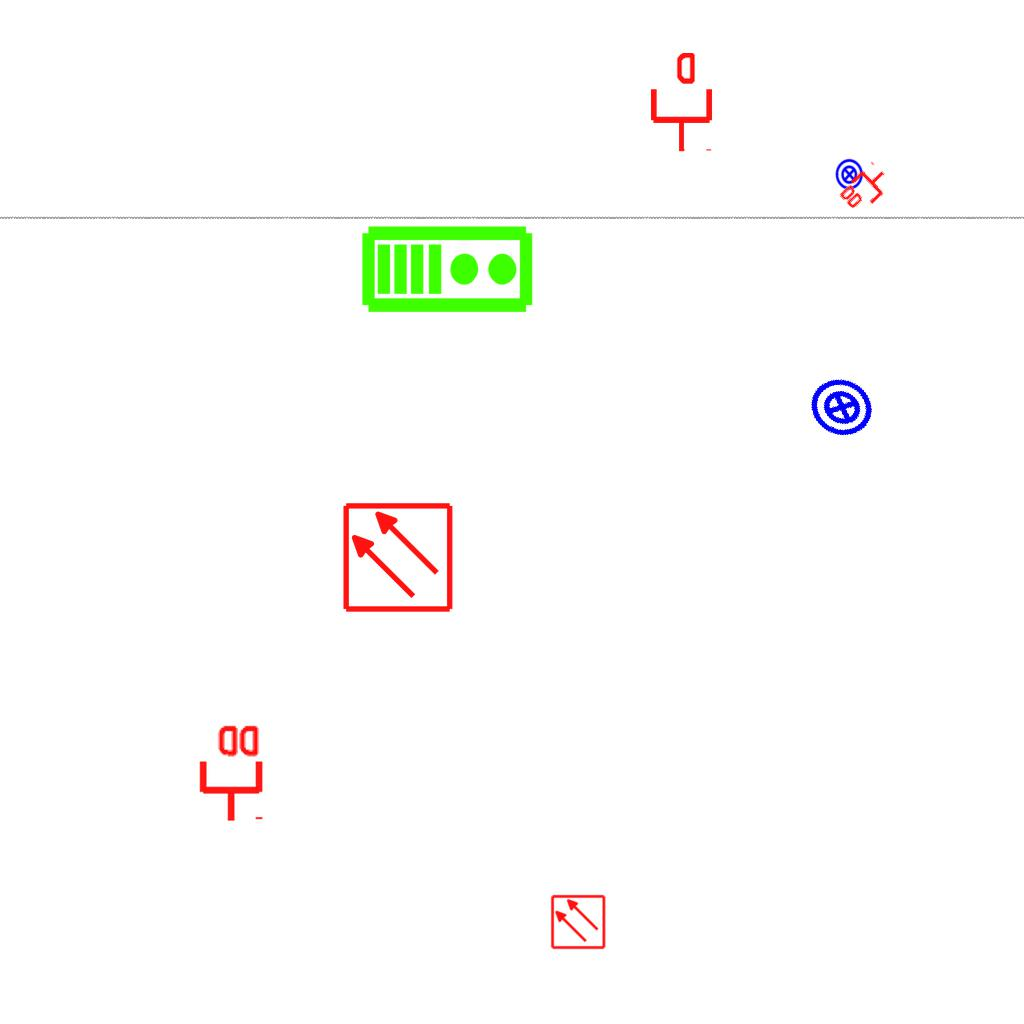Datenanschluss_einfach: (647, 53, 716, 153)
Datenanschluss_zweifach: (195, 721, 264, 824), (835, 159, 897, 220)
Gegensprechanlage_mit_Video: (360, 220, 536, 315)
RMO_Rauchmelder_optischer: (341, 501, 454, 614), (550, 894, 606, 950)
Taster_beleuchtet: (798, 363, 886, 451), (832, 157, 867, 192)
